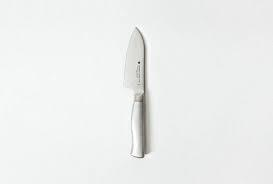Knife: (122, 25, 146, 158)
